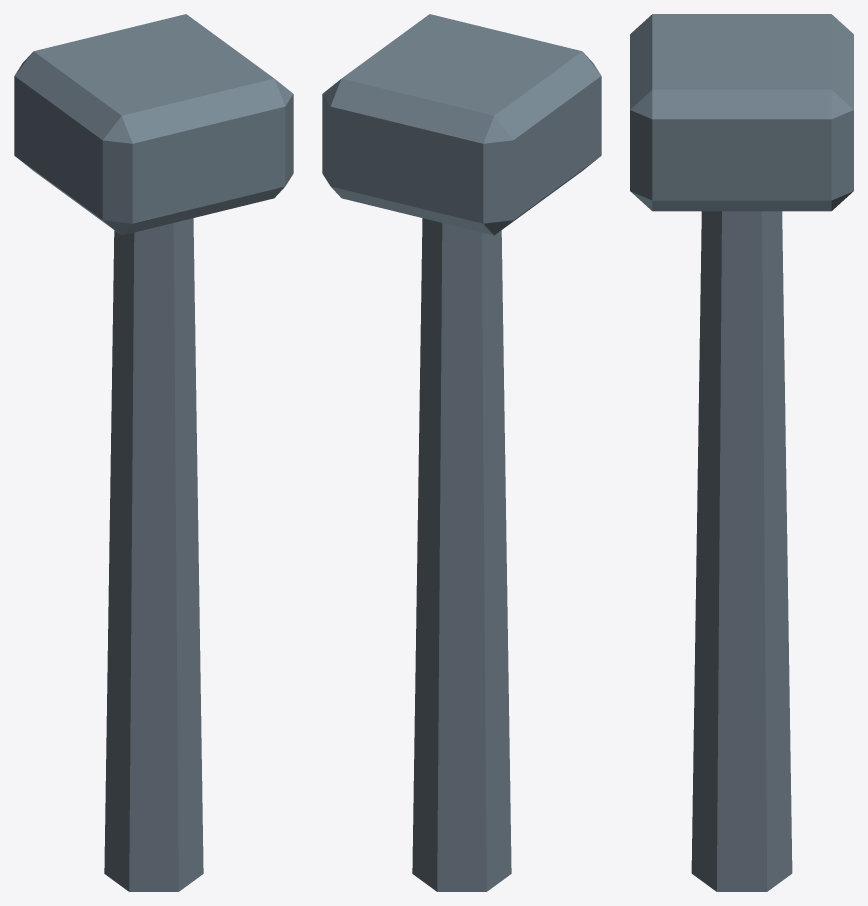
The model's file is enfeite_tocha.glb.
3 views of the same model, side by side, from view 1: azimuth 30°, elevation 25°; view 2: azimuth 150°, elevation 25°; view 3: azimuth 270°, elevation 25° (orthographic).
Parts seen in each view (by area): view 1: neve_enfeite_tocha; view 2: neve_enfeite_tocha; view 3: neve_enfeite_tocha.
Part boxes in pixels (box(x1,y1,x2,y2)): neve_enfeite_tocha: box(14, 14, 293, 891); neve_enfeite_tocha: box(322, 14, 601, 891); neve_enfeite_tocha: box(630, 14, 853, 891).
Size of the model in its own units: 0.2 by 0.81 by 0.2.
